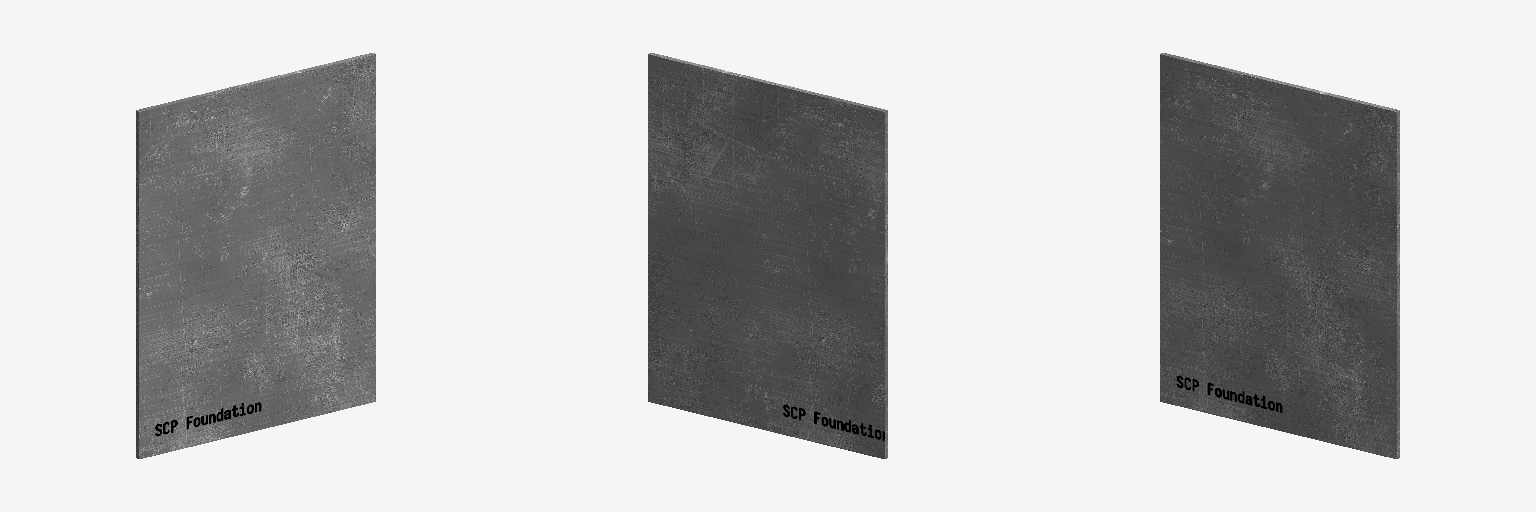
3 views of the same model, side by side, from view 1: azimuth 30°, elevation 25°; view 2: azimuth 150°, elevation 25°; view 3: azimuth 330°, elevation 25° (orthographic).
Parts seen in each view (by area): view 1: Box_Lid; view 2: Box_Lid; view 3: Box_Lid.
Part boxes in pixels (left/top/right/bottom): Box_Lid: left=136, top=53, right=375, bottom=458; Box_Lid: left=648, top=53, right=887, bottom=458; Box_Lid: left=1160, top=53, right=1399, bottom=458.
Size of the model in its own units: 0.5 by 0.7 by 0.01.
1 materials, 1 textured.